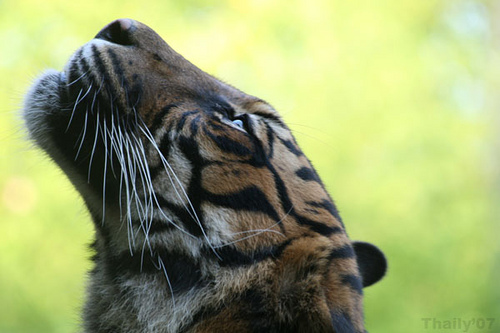Tigre: (24, 8, 397, 328)
